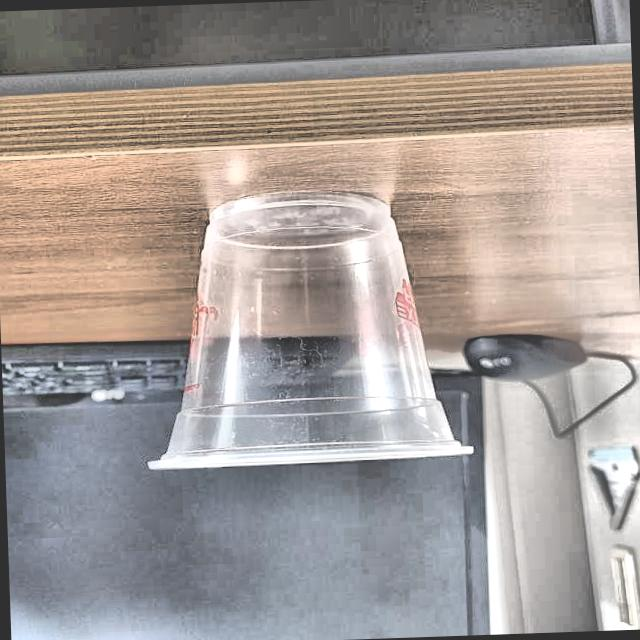plastic cup: (136, 186, 476, 473)
